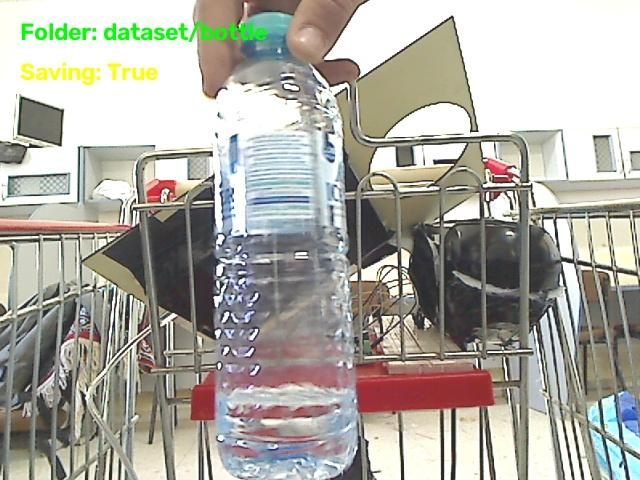Bottle: (215, 13, 357, 479)
